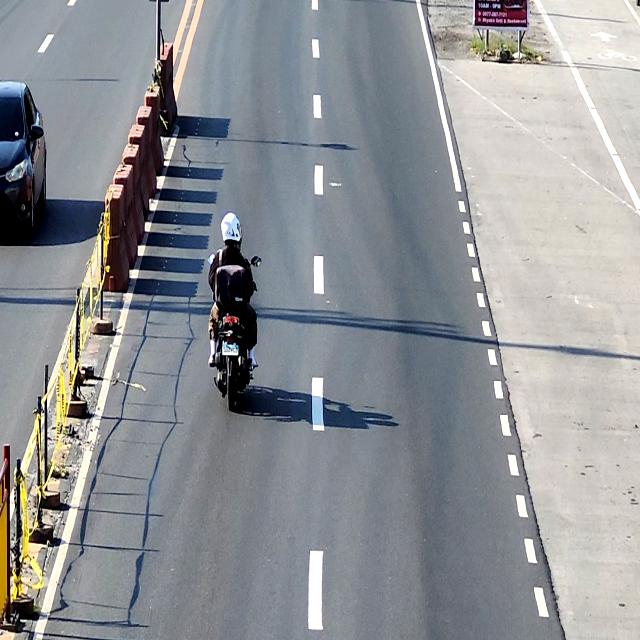Car: (0, 81, 46, 238)
License-Plate: (222, 343, 239, 357)
Motorcycle: (208, 252, 262, 411)
